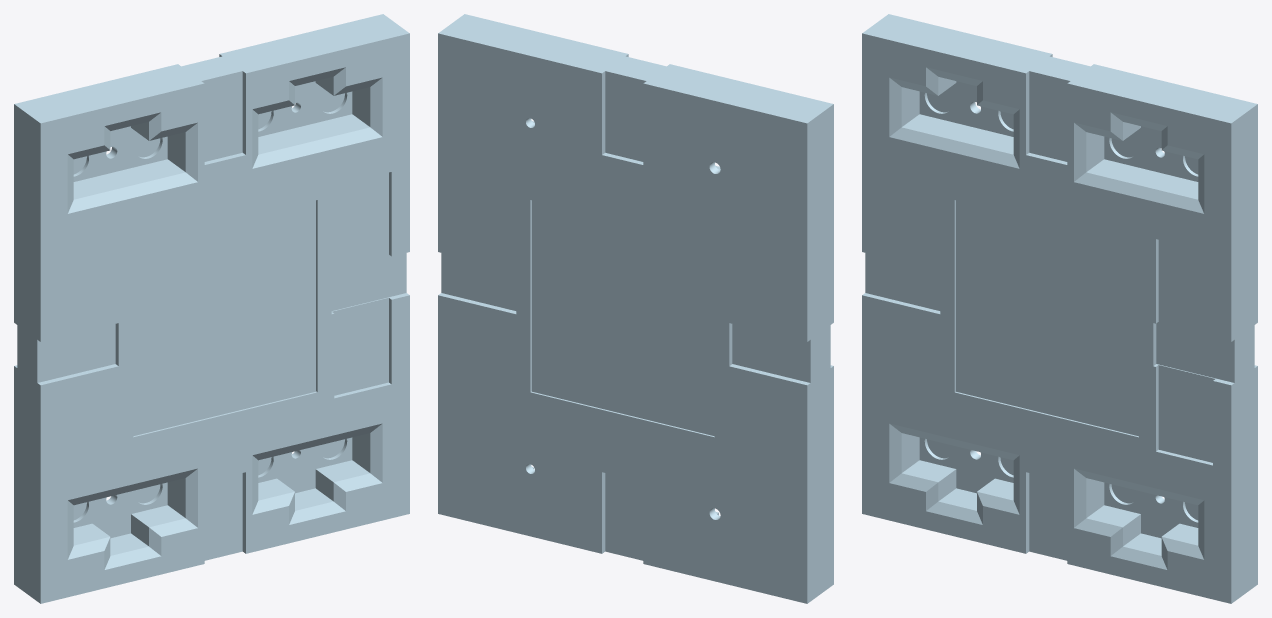
Rendered from BaseBoard.gltf.
3 views of the same model, side by side, from view 1: azimuth 30°, elevation 25°; view 2: azimuth 150°, elevation 25°; view 3: azimuth 330°, elevation 25° (orthographic).
Visible parts, largest first — view 1: Part 2; view 2: Part 2; view 3: Part 2.
Part boxes in pixels (<box>): Part 2: <box>14,14,409,603</box>; Part 2: <box>438,14,833,603</box>; Part 2: <box>862,14,1257,603</box>.
Size of the model in its own units: 0.201 by 0.25 by 0.025.
